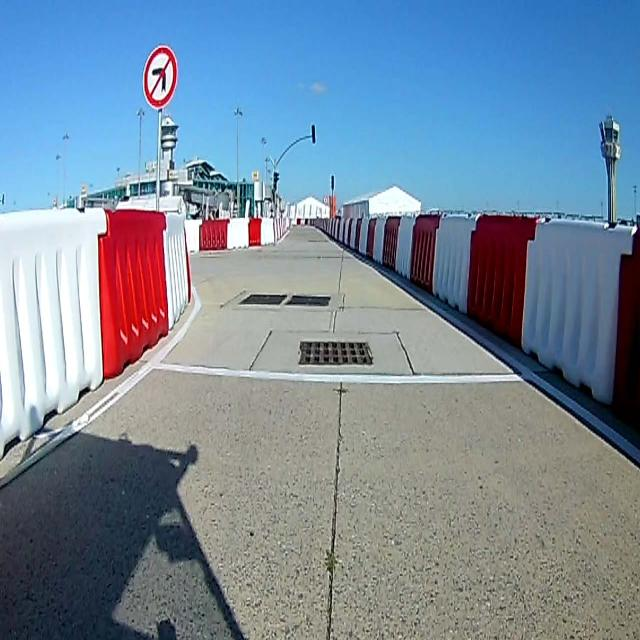soladonulmez: (142, 44, 178, 108)
